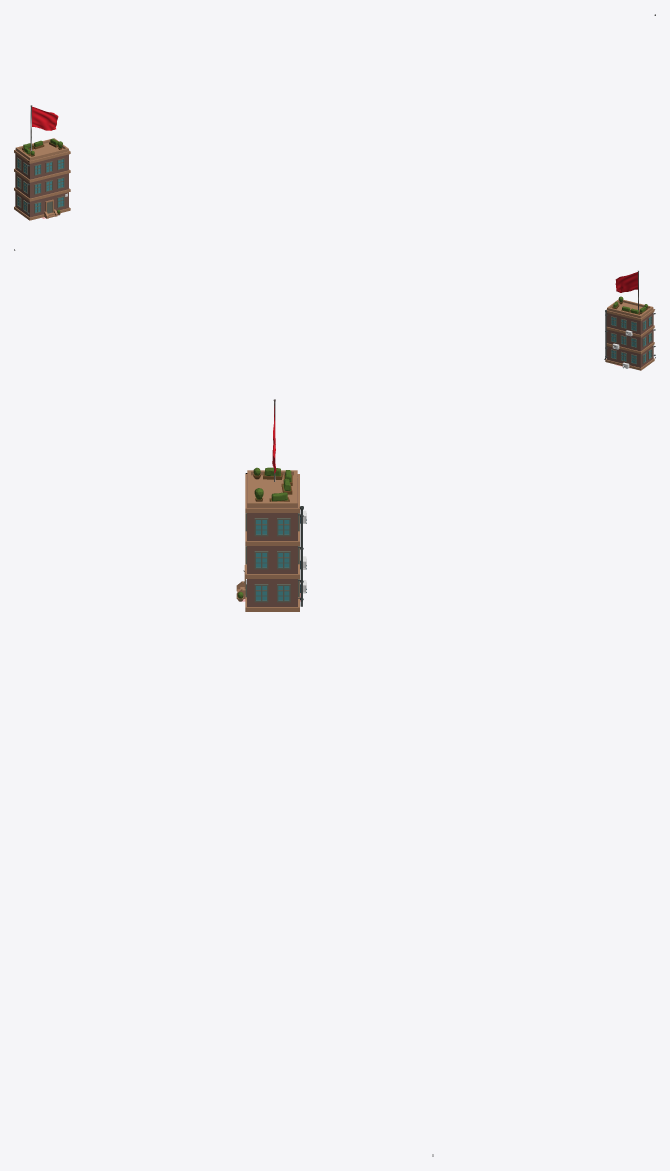
Rendered from building.glb.
3 renders of one model, top to bottom at view 1: azimuth 30°, elevation 25°; view 2: azimuth 150°, elevation 25°; view 3: azimuth 270°, elevation 25°, orthographic. The views are drawn at different scales.
Visible parts, largest first — view 1: Box15908, Box15910, Box15912, Plane013_3, Box15904; view 2: Box15908, Box15910, Box15912, Box15904, Plane013_3; view 3: Box15904, Box15908.
Part boxes in pixels (x1=…): Box15908: x1=15, y1=151, x2=68, y2=179; Box15910: x1=15, y1=172, x2=68, y2=198; Box15912: x1=15, y1=191, x2=68, y2=217; Plane013_3: x1=32, y1=106, x2=58, y2=130; Box15904: x1=15, y1=138, x2=68, y2=160; Box15908: x1=606, y1=312, x2=653, y2=334; Box15910: x1=606, y1=329, x2=653, y2=351; Box15912: x1=606, y1=345, x2=653, y2=367; Box15904: x1=607, y1=299, x2=653, y2=318; Plane013_3: x1=615, y1=272, x2=637, y2=292; Box15904: x1=247, y1=470, x2=297, y2=507; Box15908: x1=247, y1=475, x2=297, y2=540.
Size of the model in its own units: 11.32 by 1.7 by 1.62.
14 materials, 1 textured.
